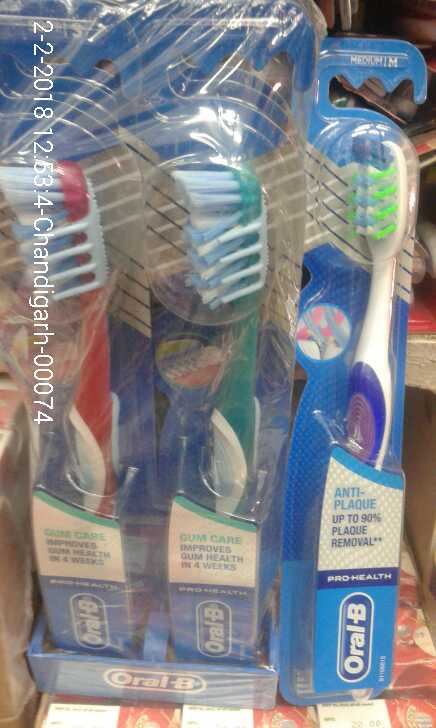oralb: (282, 101, 435, 724), (6, 162, 136, 652), (147, 153, 267, 658)
